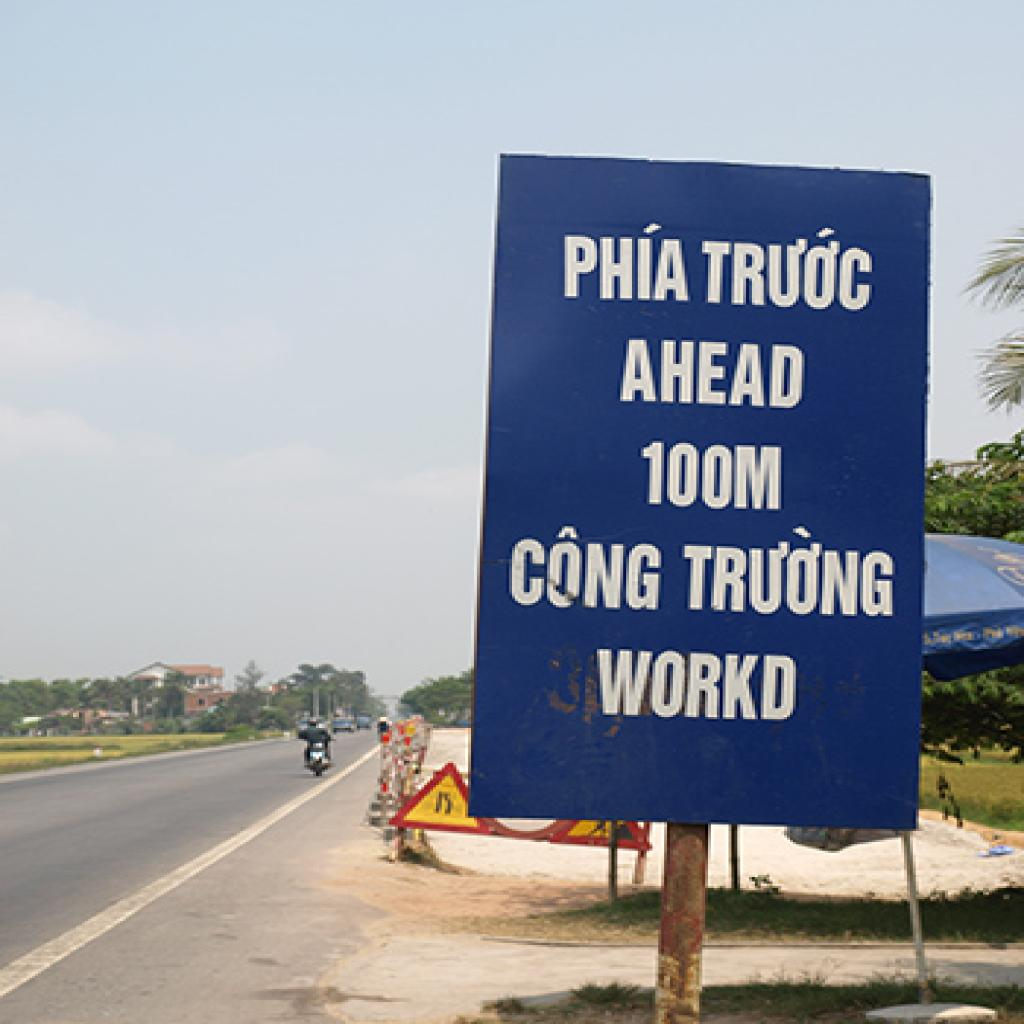text: (679, 520, 901, 622), (699, 219, 881, 316), (594, 647, 804, 723), (506, 522, 670, 616), (618, 336, 814, 412), (635, 436, 790, 516), (562, 219, 696, 305)
